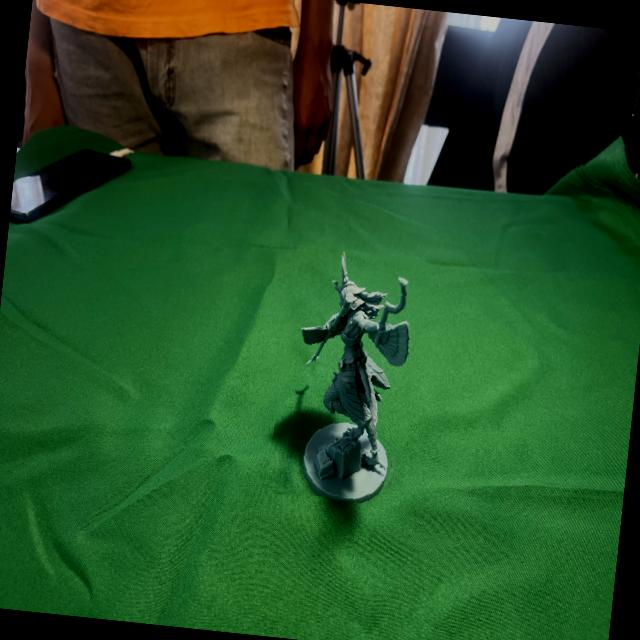isis: (268, 242, 430, 508)
